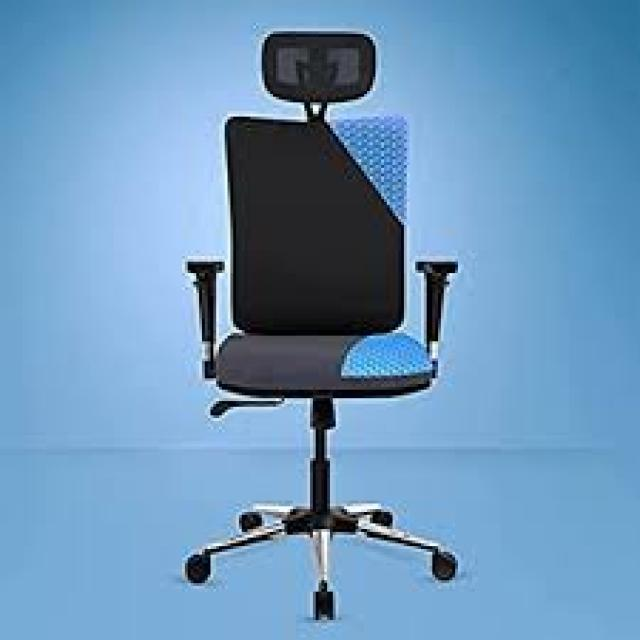chair: (131, 17, 560, 640)
